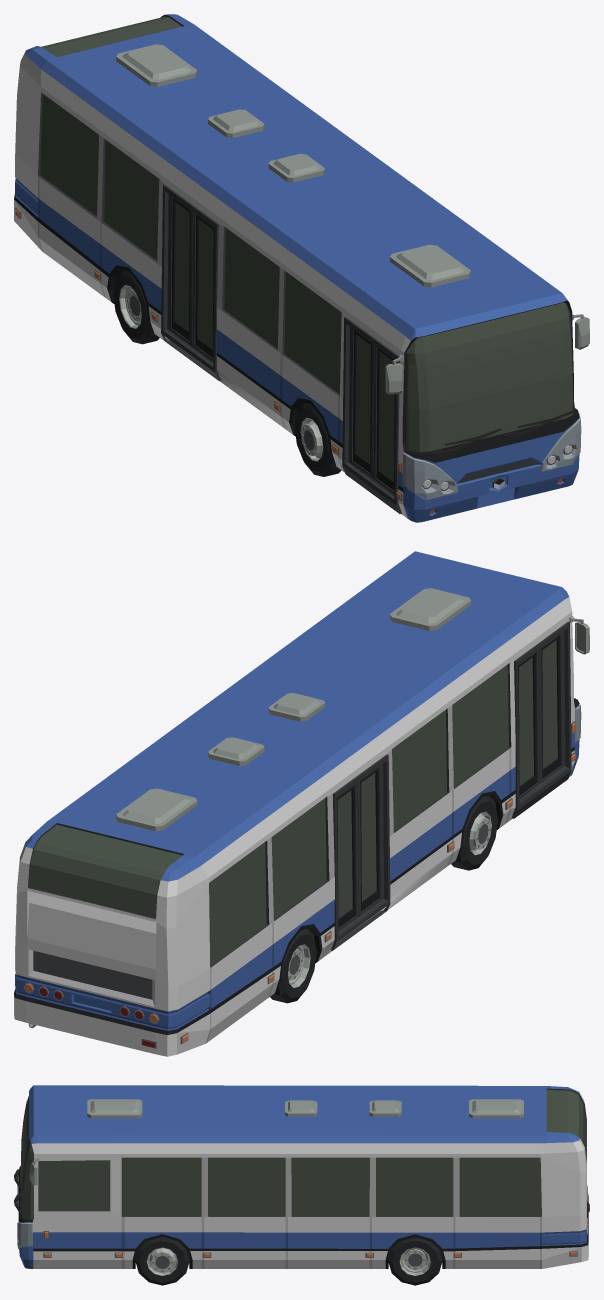
File: SM_Veh_Bus_01_Accesible.fbx
3 views of the same model, one above another, from view 1: azimuth 30°, elevation 25°; view 2: azimuth 150°, elevation 25°; view 3: azimuth 270°, elevation 25° (orthographic). The views are drawn at different scales.
Visible parts, largest first — view 1: SM_Veh_Bus_01, SM_Veh_Bus_Glass, SM_Veh_Bus_Wheel_fr, SM_Veh_Bus_Wheel_rr, SM_Veh_Bus_Door_02, SM_Veh_Bus_Door_04, SM_Veh_Bus_Door_03_Glass, SM_Veh_Bus_Door_04_Glass, SM_Veh_Bus_Door_02_Glass, SM_Veh_Bus_Door_01_Glass, SM_Veh_Bus_Door_03, SM_Veh_Bus_Door_01; view 2: SM_Veh_Bus_01, SM_Veh_Bus_Glass, SM_Veh_Bus_Wheel_fr, SM_Veh_Bus_Wheel_rr, SM_Veh_Bus_Door_03, SM_Veh_Bus_Door_01, SM_Veh_Bus_Door_03_Glass, SM_Veh_Bus_Door_01_Glass, SM_Veh_Bus_Door_04_Glass, SM_Veh_Bus_Door_02_Glass, SM_Veh_Bus_Door_02, SM_Veh_Bus_Door_04; view 3: SM_Veh_Bus_01, SM_Veh_Bus_Glass, SM_Veh_Bus_Wheel_fl, SM_Veh_Bus_Wheel_rl.
Part boxes in pixels (x1,y1,x2,y2): SM_Veh_Bus_01: (14,14,589,522); SM_Veh_Bus_Glass: (40,16,573,452); SM_Veh_Bus_Wheel_fr: (294,403,341,476); SM_Veh_Bus_Wheel_rr: (113,270,159,344); SM_Veh_Bus_Door_02: (348,327,374,478); SM_Veh_Bus_Door_04: (167,194,193,346); SM_Veh_Bus_Door_03_Glass: (198,220,213,348); SM_Veh_Bus_Door_04_Glass: (174,203,189,330); SM_Veh_Bus_Door_02_Glass: (355,335,370,463); SM_Veh_Bus_Door_01_Glass: (379,352,394,480); SM_Veh_Bus_Door_03: (192,212,214,361); SM_Veh_Bus_Door_01: (373,345,395,493); SM_Veh_Bus_01: (14,551,589,1056); SM_Veh_Bus_Glass: (29,664,508,965); SM_Veh_Bus_Wheel_fr: (451,796,497,870); SM_Veh_Bus_Wheel_rr: (270,929,316,1003); SM_Veh_Bus_Door_03: (357,764,384,916); SM_Veh_Bus_Door_01: (539,631,565,783); SM_Veh_Bus_Door_03_Glass: (361,773,376,901); SM_Veh_Bus_Door_01_Glass: (542,640,557,768); SM_Veh_Bus_Door_04_Glass: (337,790,352,918); SM_Veh_Bus_Door_02_Glass: (519,657,533,785); SM_Veh_Bus_Door_02: (518,650,539,799); SM_Veh_Bus_Door_04: (336,782,358,931); SM_Veh_Bus_01: (14,1085,589,1268); SM_Veh_Bus_Glass: (20,1090,585,1219); SM_Veh_Bus_Wheel_fl: (135,1237,189,1285); SM_Veh_Bus_Wheel_rl: (388,1237,442,1285).
Size of the model in its own units: 324 by 335 by 1143.
